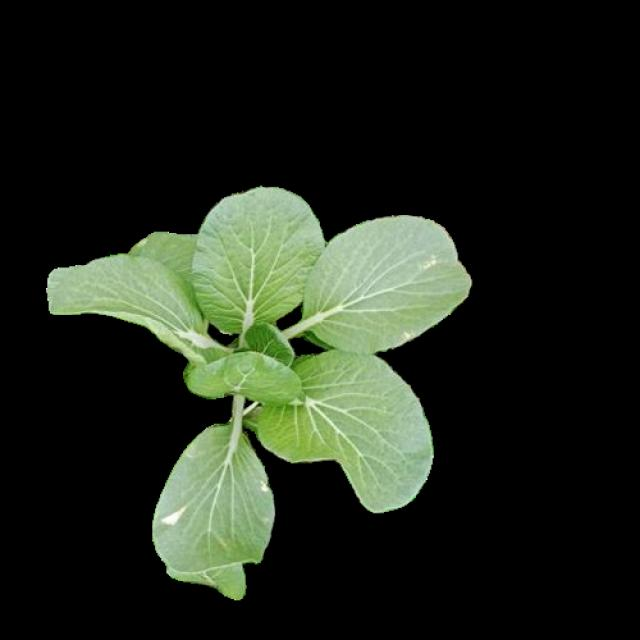not-mature: (47, 183, 470, 600)
unhealthy: (298, 219, 472, 357), (156, 420, 275, 599)
